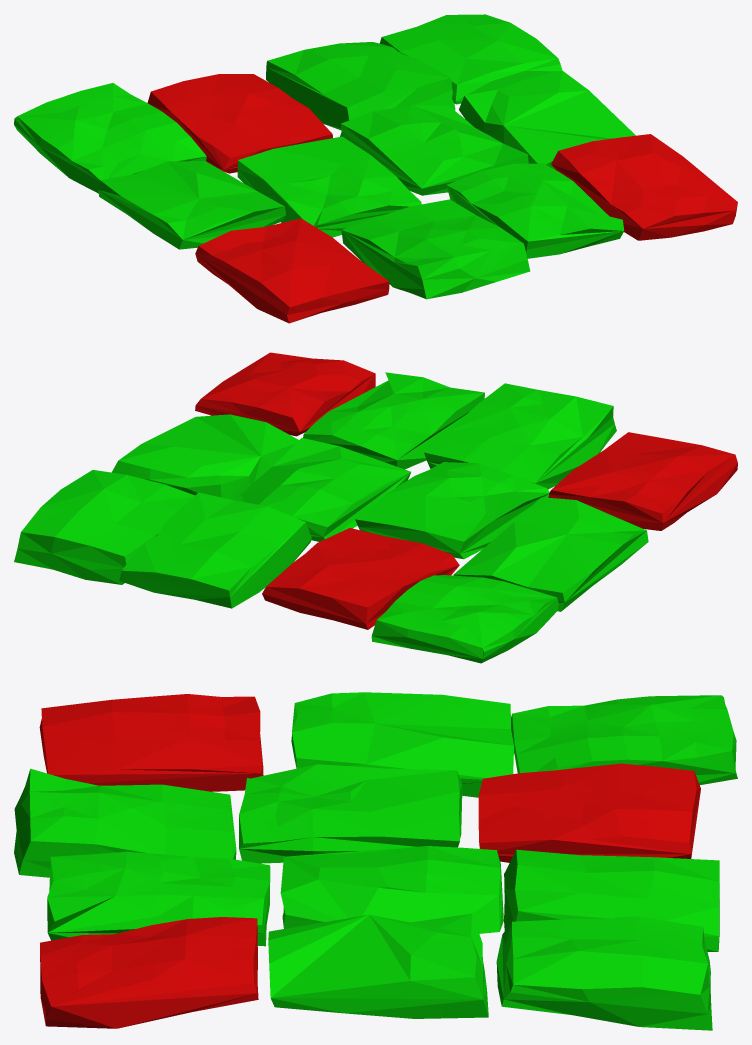
File: Cobblestone_02.fbx
3 renders of one model, top to bottom at view 1: azimuth 30°, elevation 25°; view 2: azimuth 150°, elevation 25°; view 3: azimuth 270°, elevation 25°, orthographic. The views are drawn at different scales.
Visible parts, largest first — view 1: Plane.004; view 2: Plane.004; view 3: Plane.004.
Part boxes in pixels (<box>): Plane.004: <box>14,14,737,323</box>; Plane.004: <box>14,352,737,663</box>; Plane.004: <box>14,692,737,1030</box>.
Size of the model in its own units: 203 by 18.15 by 207.
